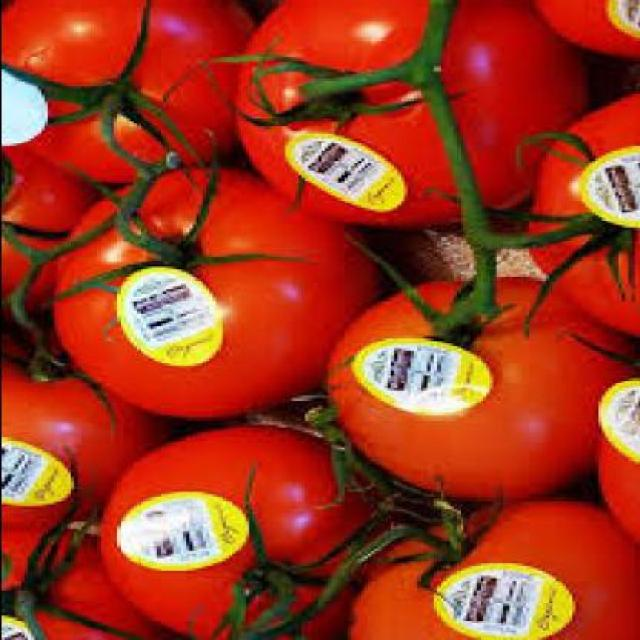BIODEGRADABLE: (50, 165, 379, 418), (228, 2, 584, 235), (317, 277, 614, 505), (91, 428, 386, 638), (3, 5, 251, 183), (343, 498, 631, 638), (2, 330, 162, 524), (521, 97, 637, 343), (2, 143, 100, 319), (2, 524, 149, 638), (588, 376, 637, 562), (521, 3, 637, 62)
